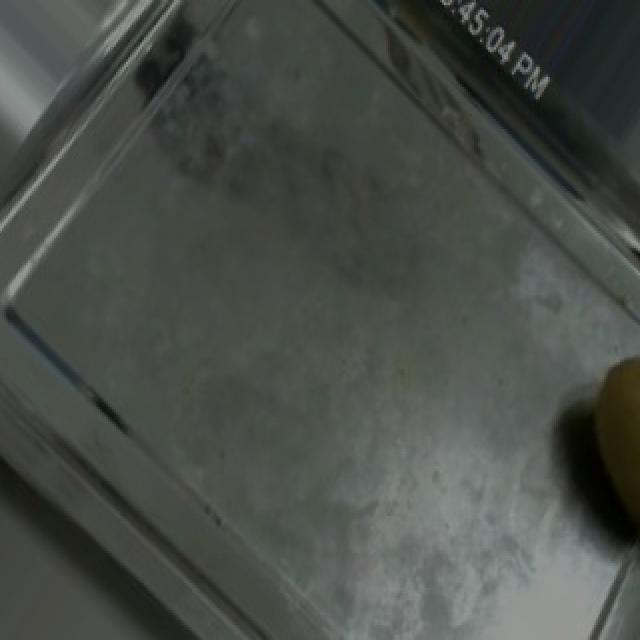Fruit: (544, 325, 640, 573)
